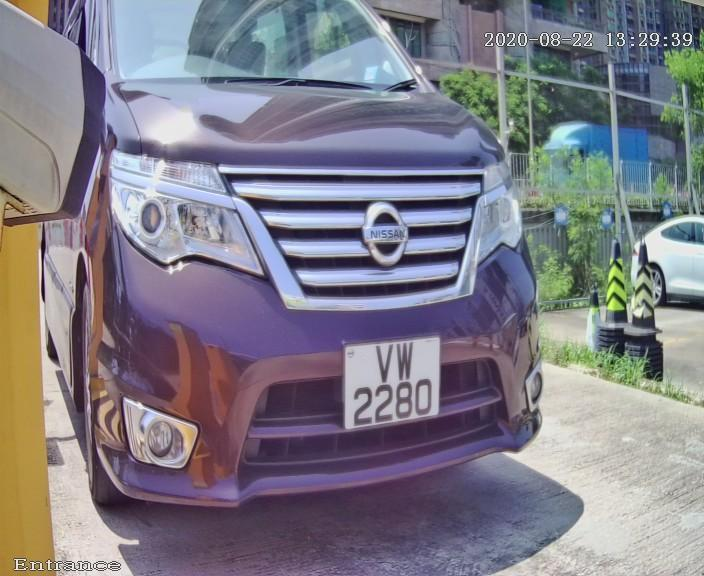License Plate: (334, 325, 444, 440)
